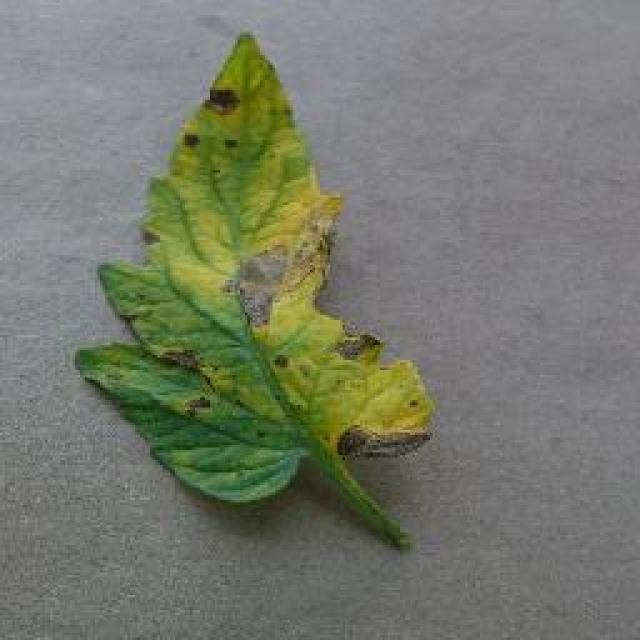Tomato_Early_Blight: (193, 104, 428, 453)
